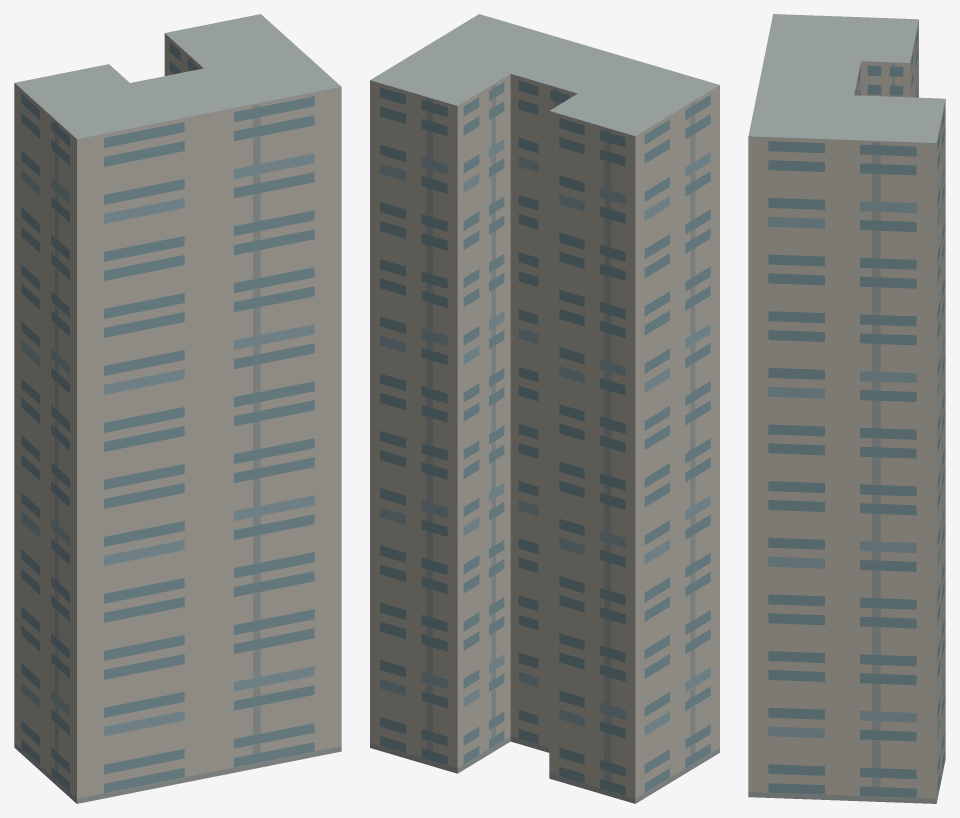
Rendered from residential-20e6b065-176d-4df4-911a-7e2cb4096442.glb.
3 renders of one model, left to right at view 1: azimuth 30°, elevation 25°; view 2: azimuth 150°, elevation 25°; view 3: azimuth 270°, elevation 25°, orthographic.
Visible parts, largest first — view 1: residential-20e6b065-176d-4df4-911a-7e2cb4096442.tmp; view 2: residential-20e6b065-176d-4df4-911a-7e2cb4096442.tmp; view 3: residential-20e6b065-176d-4df4-911a-7e2cb4096442.tmp.
Boxes of the visible parts, x1,y1,x2,y2 form: residential-20e6b065-176d-4df4-911a-7e2cb4096442.tmp: [14, 14, 341, 803]; residential-20e6b065-176d-4df4-911a-7e2cb4096442.tmp: [370, 14, 719, 803]; residential-20e6b065-176d-4df4-911a-7e2cb4096442.tmp: [748, 14, 945, 803].
Bounding box in the file's own units: 43.17 × 103 × 27.87.
